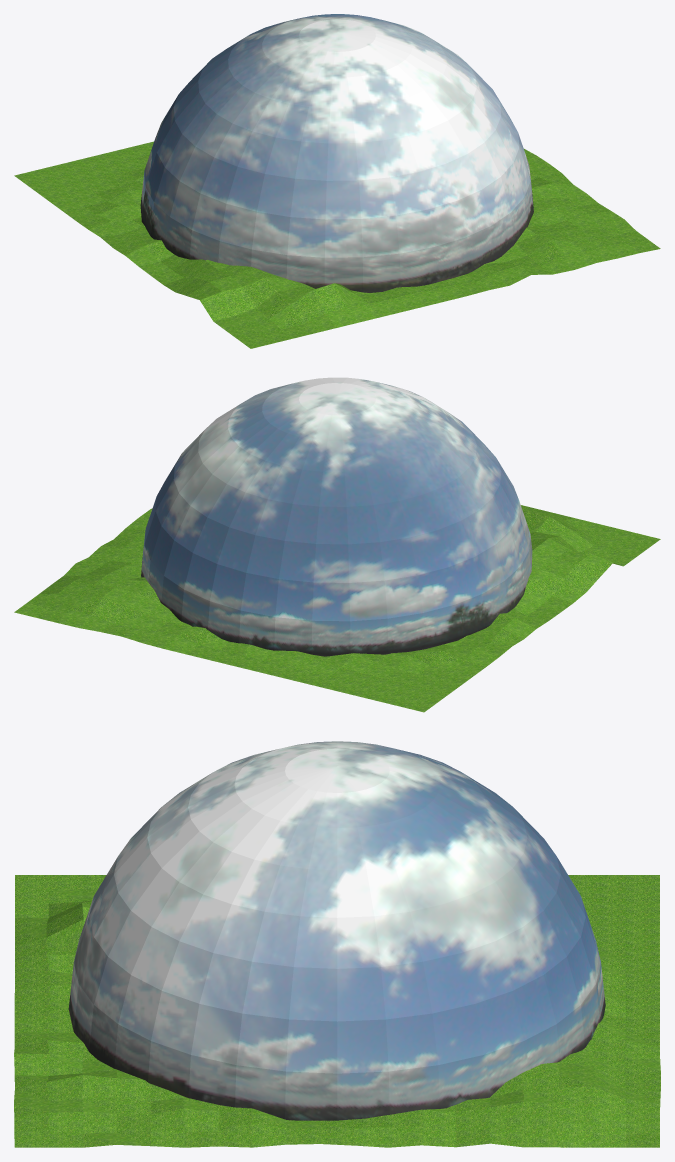
File: TRACK.fbx
3 views of the same model, one above another, from view 1: azimuth 30°, elevation 25°; view 2: azimuth 150°, elevation 25°; view 3: azimuth 270°, elevation 25° (orthographic). The views are drawn at different scales.
Visible parts, largest first — view 1: TREES, Terrain; view 2: TREES, Terrain; view 3: TREES, Terrain.
Part boxes in pixels (box(x1,y1,x2,y2)): TREES: box(140, 14, 533, 292); Terrain: box(14, 141, 660, 348); TREES: box(141, 377, 532, 656); Terrain: box(14, 505, 660, 712); TREES: box(68, 741, 605, 1120); Terrain: box(14, 875, 660, 1147).
Size of the model in its own units: 60381 by 27606 by 60176.
